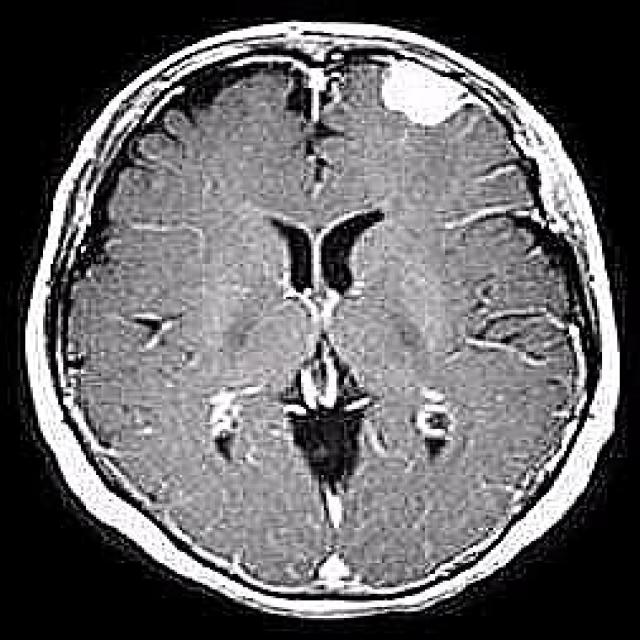Tumor-Cell: (360, 41, 480, 136)
